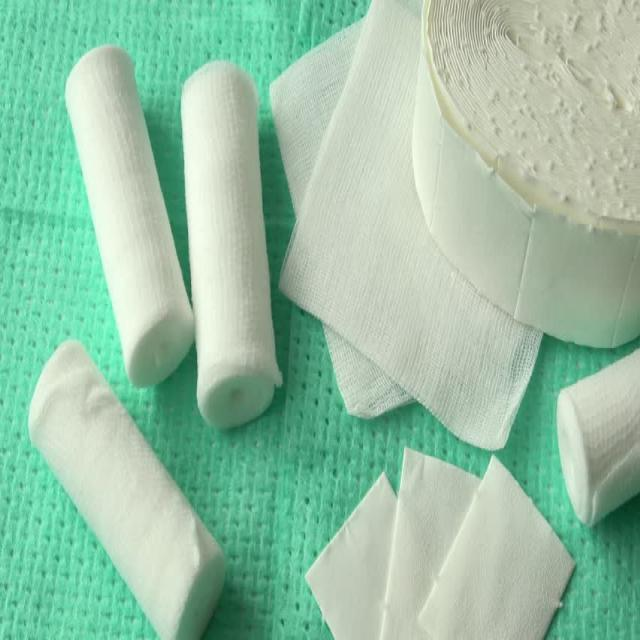B3: (20, 331, 244, 636), (54, 25, 196, 407), (172, 40, 296, 449), (545, 318, 640, 530)
